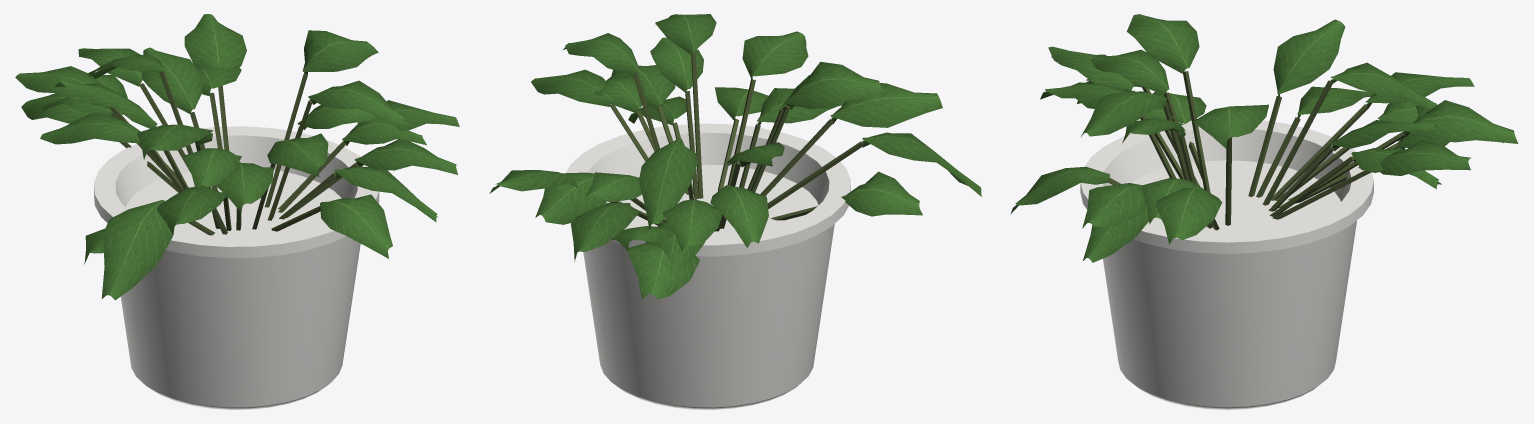
File: ap_plant_small.glb
The picture shows the model from 3 angles, left to right: view 1: azimuth 30°, elevation 25°; view 2: azimuth 150°, elevation 25°; view 3: azimuth 270°, elevation 25°; orthographic projection. The views are drawn at different scales.
Parts seen in each view (by area): view 1: ap_plant_small; view 2: ap_plant_small; view 3: ap_plant_small.
Part boxes in pixels (left/top/right/bottom): ap_plant_small: left=15, top=14, right=459, bottom=409; ap_plant_small: left=489, top=14, right=981, bottom=409; ap_plant_small: left=1010, top=14, right=1518, bottom=409.
Size of the model in its own units: 0.3007 by 0.2152 by 0.3223.
Materials: 4 (1 with a texture image).
